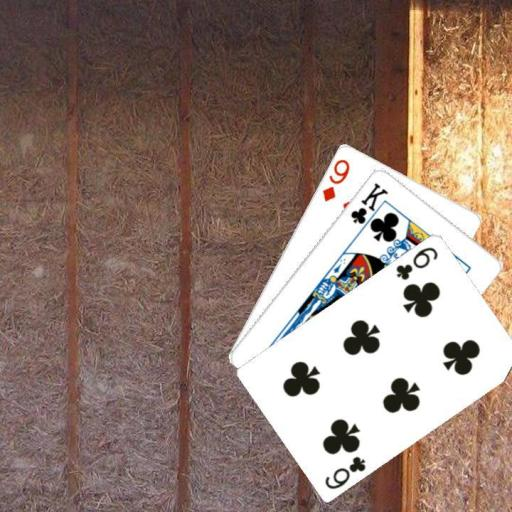6C: (393, 243, 440, 282), (322, 452, 368, 491)
9D: (319, 155, 351, 203)
KC: (347, 179, 390, 235)
